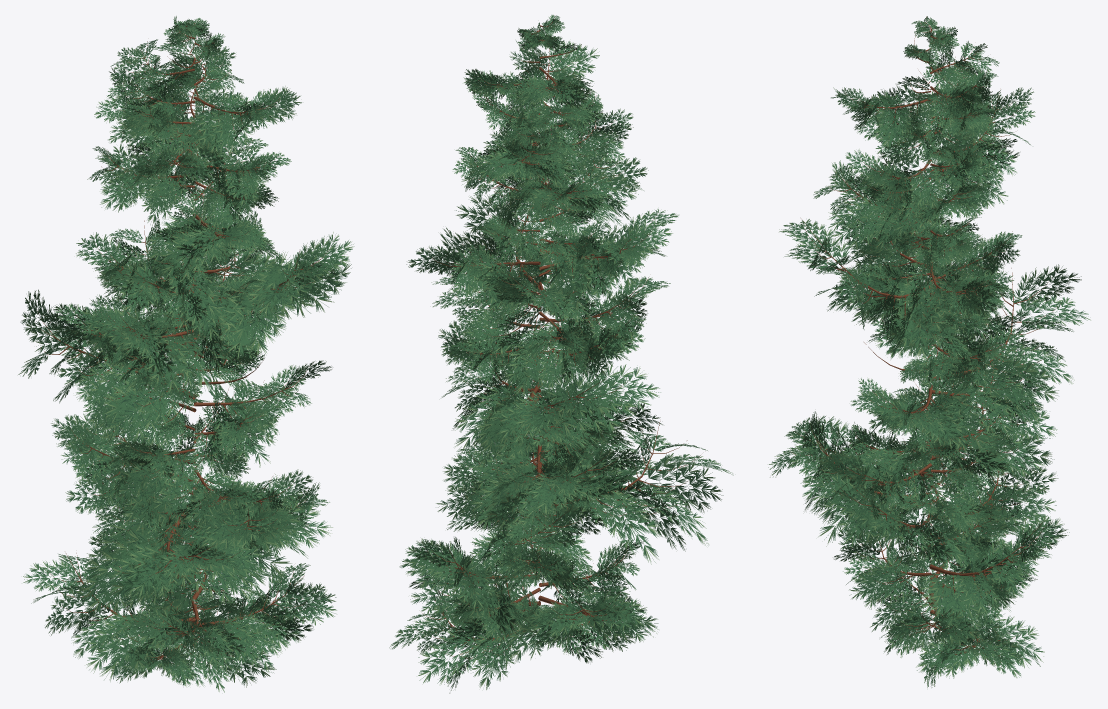
File: forest-pine-lod0.meshopt.glb
3 renders of one model, left to right at view 1: azimuth 30°, elevation 25°; view 2: azimuth 150°, elevation 25°; view 3: azimuth 270°, elevation 25°, orthographic. The views are drawn at different scales.
Visible parts, largest first — view 1: redwood-crown; view 2: redwood-crown; view 3: redwood-crown.
Boxes of the visible parts, box(x1,y1,x2,y2) form: redwood-crown: box(18, 16, 354, 692); redwood-crown: box(389, 15, 733, 693); redwood-crown: box(768, 16, 1090, 687).
Size of the model in its own units: 15.75 by 37.12 by 17.12.
Materials: 7 (3 with a texture image).
